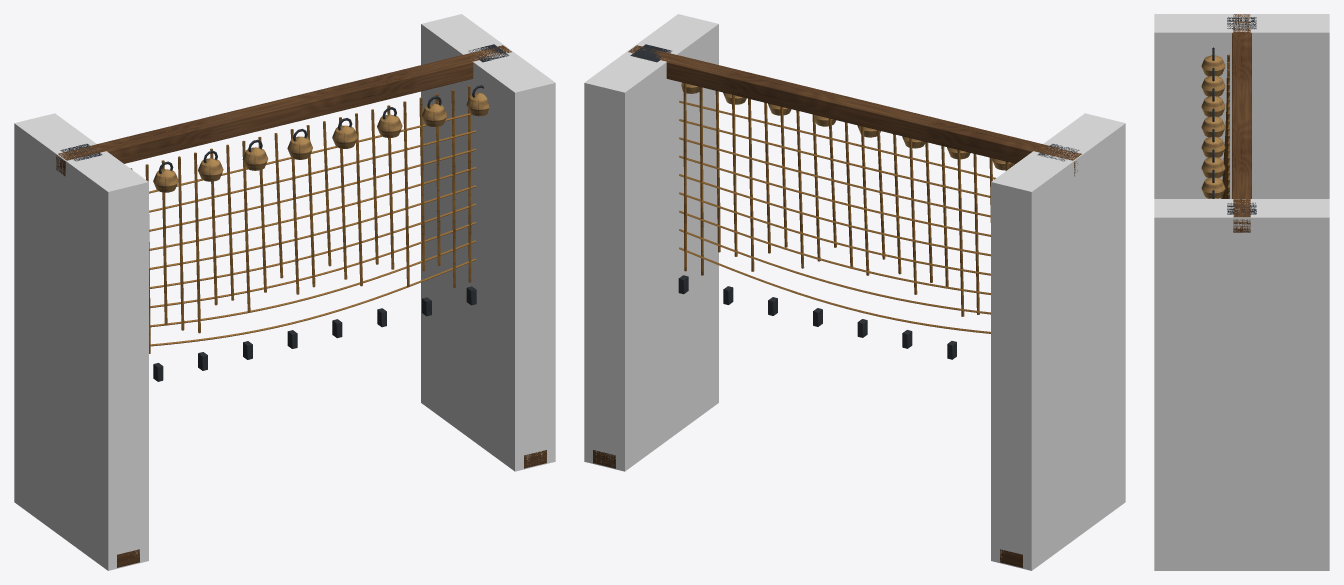
File: settlement_inn_undercroft_net_rack.gltf
The picture shows the model from 3 angles, left to right: view 1: azimuth 30°, elevation 25°; view 2: azimuth 150°, elevation 25°; view 3: azimuth 270°, elevation 25°; orthographic projection. The views are drawn at different scales.
Parts seen in each view (by area): view 1: settlement_inn_undercroft_net_rack_col, settlement_inn_undercroft_net_rack_LOD0; view 2: settlement_inn_undercroft_net_rack_col, settlement_inn_undercroft_net_rack_LOD0; view 3: settlement_inn_undercroft_net_rack_col, settlement_inn_undercroft_net_rack_LOD0.
Part boxes in pixels (<box>): settlement_inn_undercroft_net_rack_col: <box>14,14,555,570</box>; settlement_inn_undercroft_net_rack_LOD0: <box>56,44,546,567</box>; settlement_inn_undercroft_net_rack_col: <box>584,14,1125,570</box>; settlement_inn_undercroft_net_rack_LOD0: <box>593,44,1081,567</box>; settlement_inn_undercroft_net_rack_col: <box>1154,14,1329,570</box>; settlement_inn_undercroft_net_rack_LOD0: <box>1201,14,1256,232</box>.
Size of what is drawn, in the model's own units: 2.2 by 1.79 by 0.8.
Materials: 5 (5 with a texture image).
